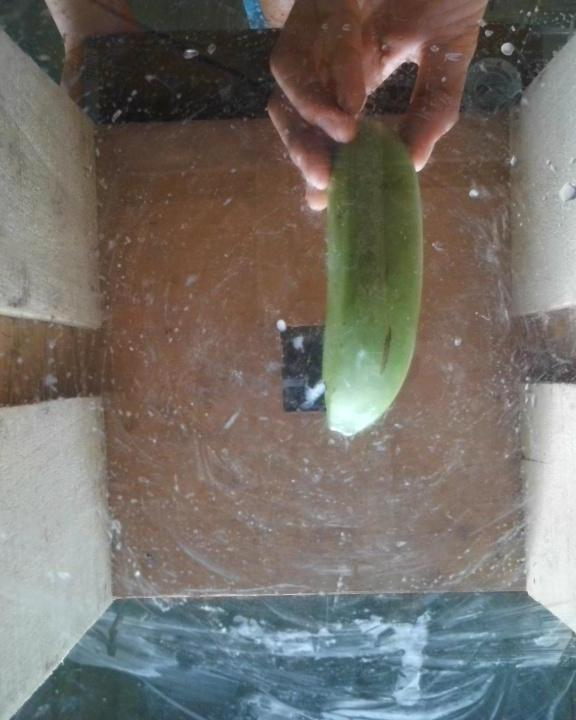CLASS B: (315, 115, 443, 447)
Class A: (368, 321, 405, 382)
